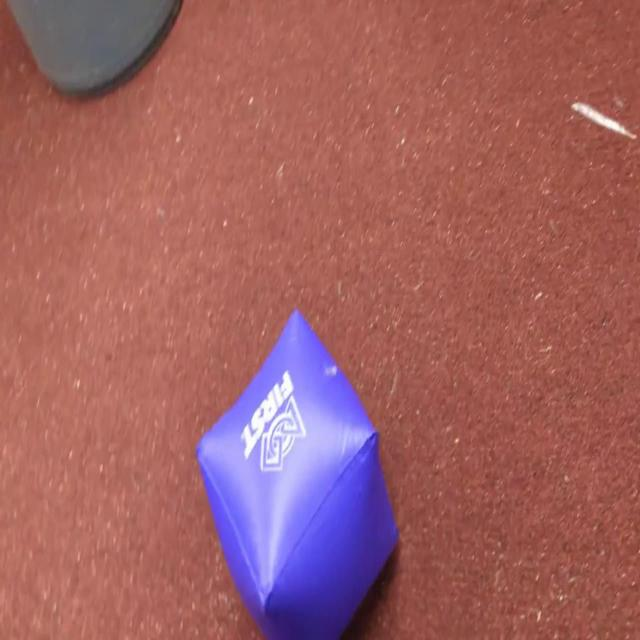frc_cube: (195, 307, 400, 640)
